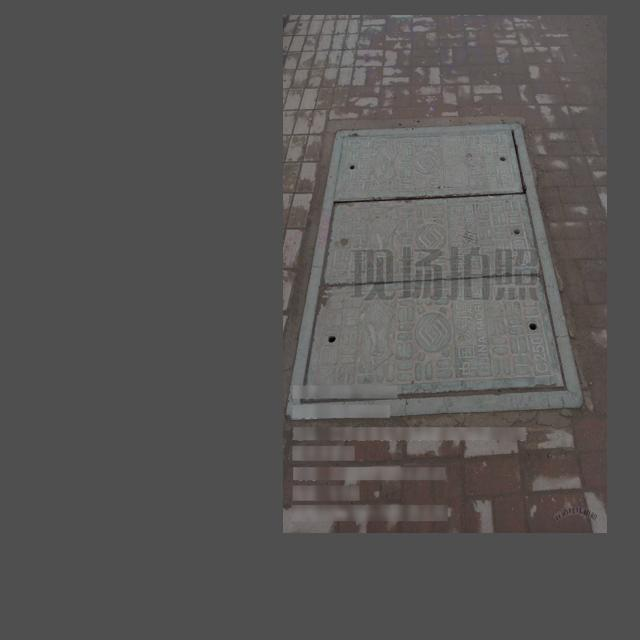good: (285, 121, 585, 419)
